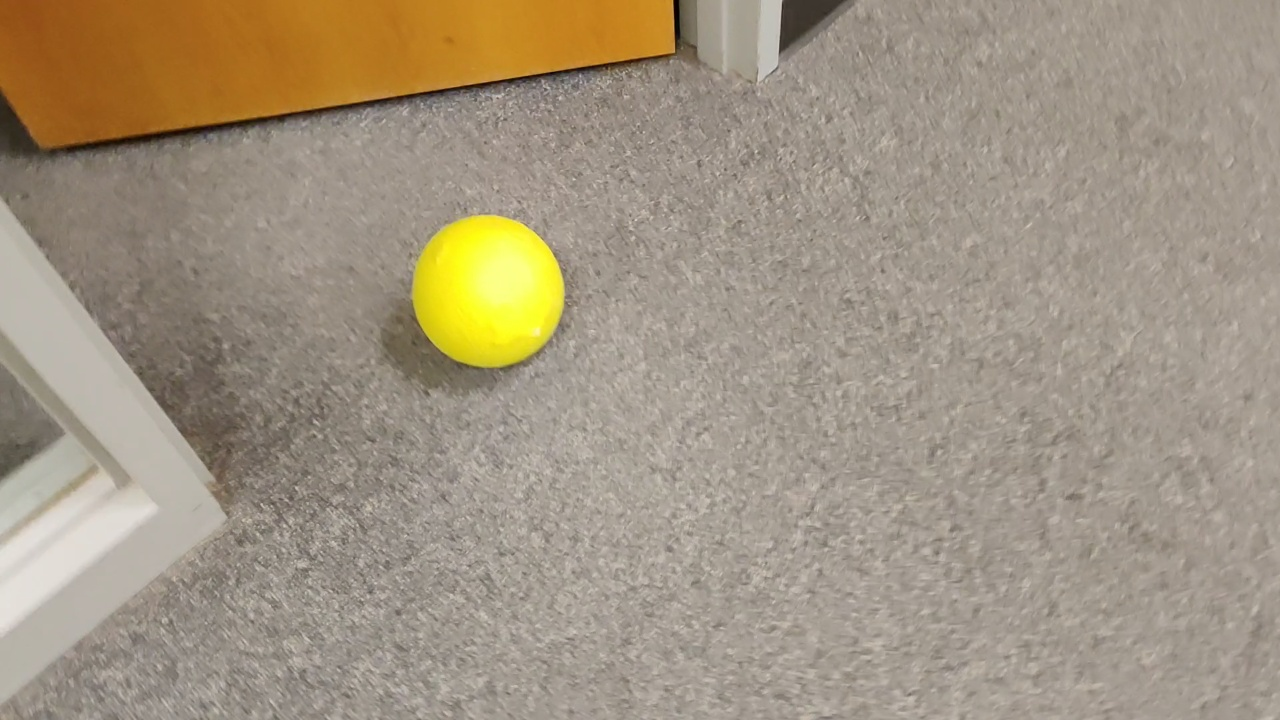Ball: (404, 206, 572, 375)
